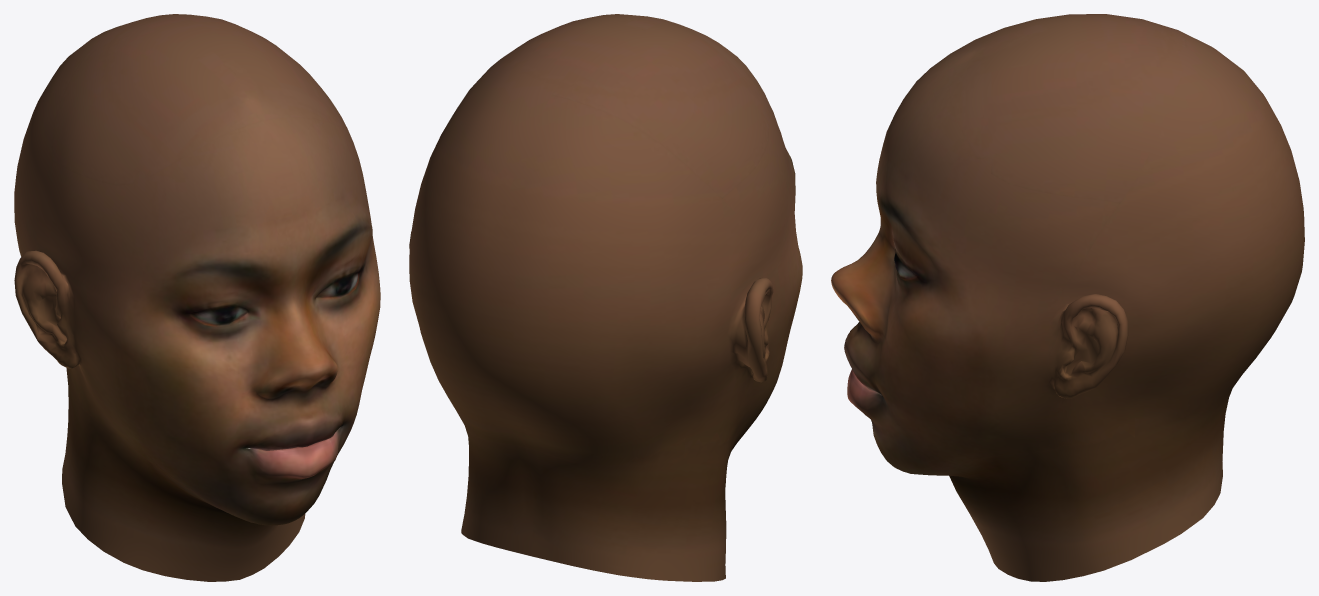
3 renders of one model, left to right at view 1: azimuth 30°, elevation 25°; view 2: azimuth 150°, elevation 25°; view 3: azimuth 270°, elevation 25°, orthographic. The views are drawn at different scales.
Visible parts, largest first — view 1: HeadHires; view 2: HeadHires; view 3: HeadHires.
Boxes of the visible parts, x1=… form: HeadHires: x1=14, y1=14, x2=380, y2=581; HeadHires: x1=409, y1=14, x2=802, y2=581; HeadHires: x1=831, y1=14, x2=1304, y2=581.
Bounding box in the file's own units: 188 × 283 × 230.
Materials: 1 (1 with a texture image).
